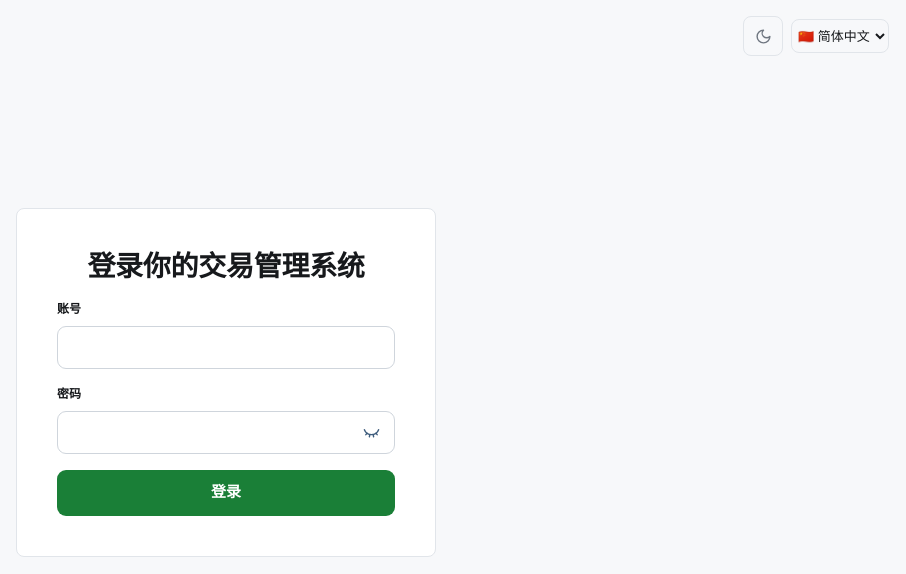
Test: LoginPage › announces the busy state while credentials are being verified
Type "xinyu" into the field labelled "账号".
click(226, 347); type("xinyu")  # box [57,326,395,368]
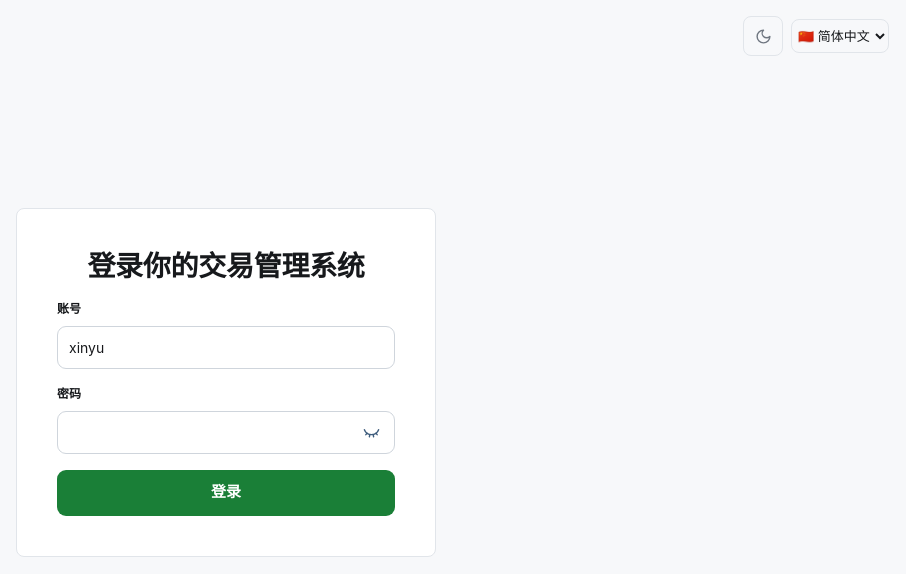
Type "secret" into the password field labelled "密码".
click(226, 432); type("secret")  # box [57,410,395,454]
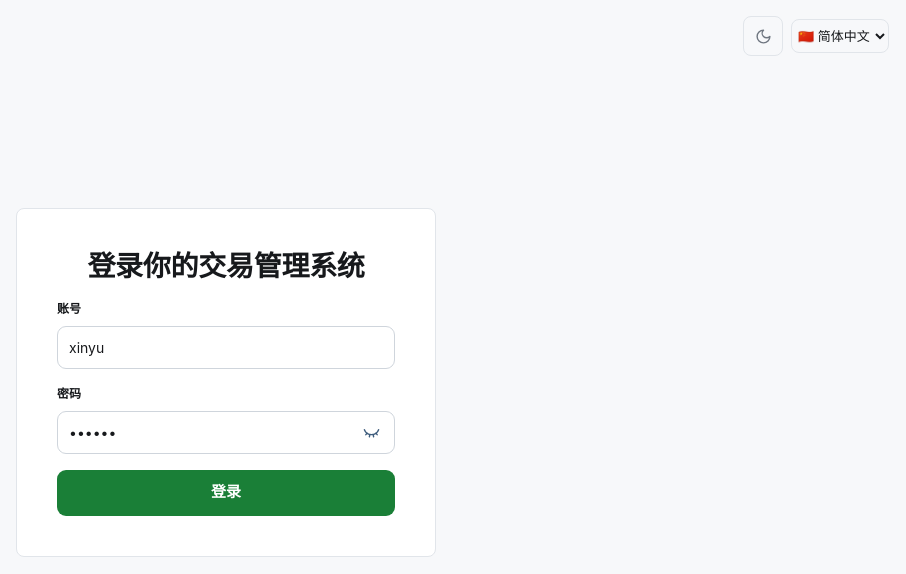
Submit the form "登录", box [16,208,436,556]
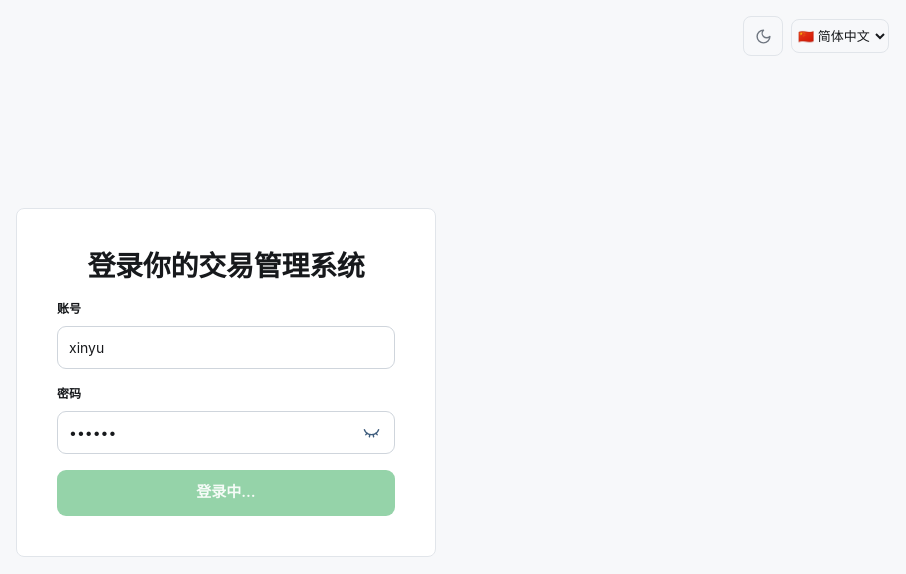
expect the button "登录中…" is disabled: met, box [57,470,395,516]
